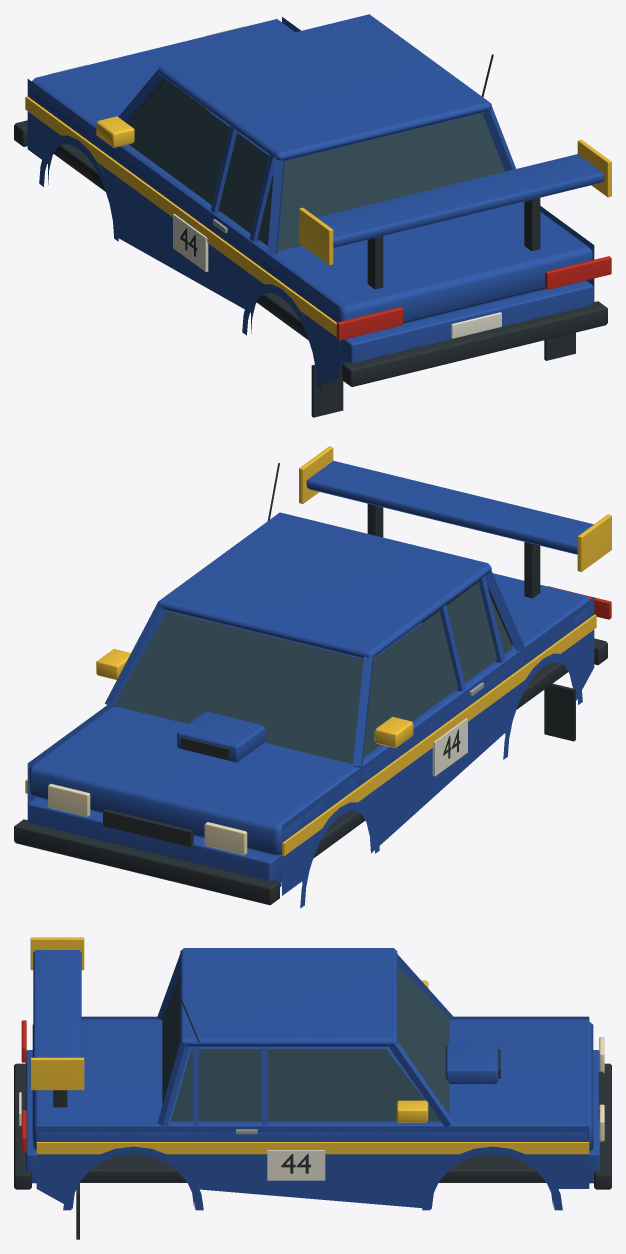
3 renders of one model, top to bottom at view 1: azimuth 30°, elevation 25°; view 2: azimuth 150°, elevation 25°; view 3: azimuth 270°, elevation 25°, orthographic. The views are drawn at different scales.
Parts seen in each view (by area): view 1: Upper body, Roof, Rear glass, Side glass, Rear wing, Wheel opening body.014, Rear bumper, Rear valance, Waist stripe, Sill floor, Gold endplate, Wheel opening body.028 (+16 smaller); view 2: Upper body, Roof, Windscreen, Side glass, Rear wing, Wheel opening body.014, Front bumper, Front valance, Waist stripe, Hood intake, Sill floor, Mud flap (+16 smaller); view 3: Upper body, Roof, Side glass.001, Wheel opening body.043, Waist stripe.001, Rear wing, Windscreen, Sill floor, Hood intake, Wheel opening body.057, Gold endplate.001, Wheel opening body.029 (+14 smaller).
Part boxes in pixels (x1=…): Upper body: x1=29, y1=19, x2=592, y2=324; Roof: x1=158, y1=14, x2=491, y2=161; Rear glass: x1=277, y1=113, x2=505, y2=251; Side glass: x1=127, y1=81, x2=273, y2=245; Rear wing: x1=317, y1=154, x2=604, y2=247; Wheel opening body.014: x1=116, y1=146, x2=251, y2=312; Rear bumper: x1=342, y1=301, x2=607, y2=386; Rear valance: x1=340, y1=280, x2=593, y2=368; Waist stripe: x1=25, y1=96, x2=336, y2=336; Sill floor: x1=53, y1=144, x2=340, y2=363; Gold endplate: x1=299, y1=207, x2=333, y2=265; Wheel opening body.028: x1=319, y1=292, x2=339, y2=384; Upper body: x1=29, y1=573, x2=592, y2=856; Roof: x1=158, y1=512, x2=491, y2=659; Windscreen: x1=115, y1=611, x2=363, y2=763; Side glass: x1=363, y1=582, x2=512, y2=757; Rear wing: x1=306, y1=460, x2=593, y2=554; Wheel opening body.014: x1=371, y1=662, x2=505, y2=853; Front bumper: x1=14, y1=819, x2=279, y2=905; Front valance: x1=28, y1=798, x2=281, y2=886; Waist stripe: x1=282, y1=614, x2=596, y2=856; Hood intake: x1=177, y1=711, x2=265, y2=762; Sill floor: x1=280, y1=662, x2=568, y2=881; Mud flap: x1=544, y1=683, x2=575, y2=741; Upper body: x1=32, y1=1019, x2=593, y2=1151; Roof: x1=180, y1=948, x2=397, y2=1047; Side glass.001: x1=171, y1=1049, x2=440, y2=1121; Wheel opening body.043: x1=193, y1=1126, x2=431, y2=1208; Waist stripe.001: x1=36, y1=1142, x2=589, y2=1154; Rear wing: x1=33, y1=950, x2=81, y2=1057; Windscreen: x1=397, y1=966, x2=449, y2=1115; Sill floor: x1=79, y1=1154, x2=546, y2=1182; Hood intake: x1=445, y1=1043, x2=497, y2=1083; Wheel opening body.057: x1=36, y1=1126, x2=72, y2=1208; Gold endplate.001: x1=30, y1=1057, x2=84, y2=1090; Wheel opening body.029: x1=552, y1=1126, x2=589, y2=1188.
Size of the model in its own units: 2.23 by 1.85 by 4.33.
